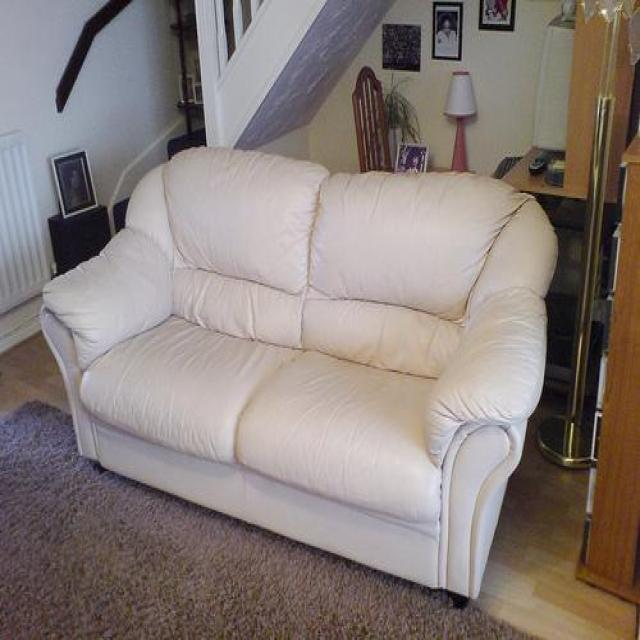sofa: (37, 147, 559, 608)
